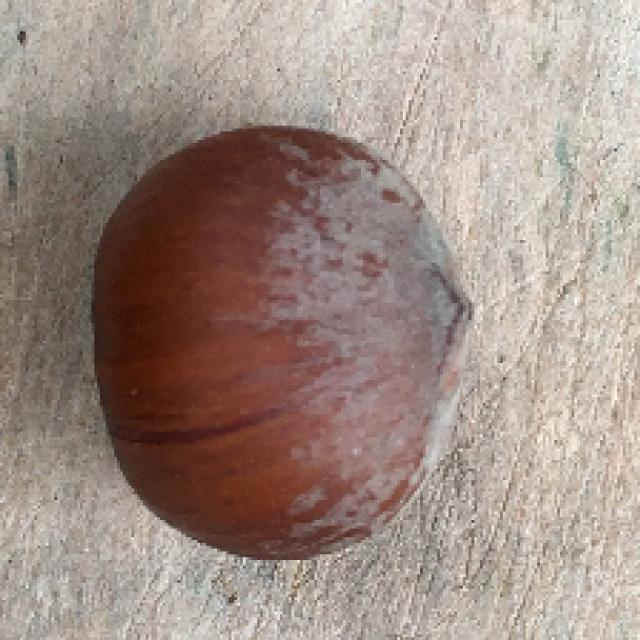qualityHazelnut: (86, 112, 486, 560)
